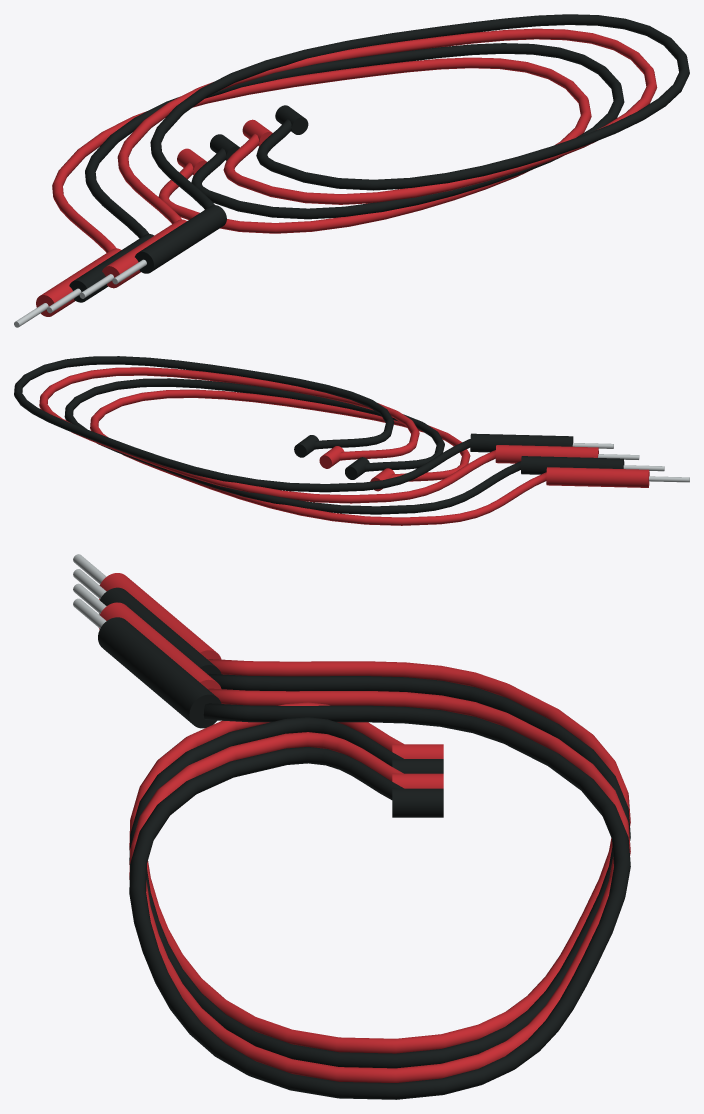
Rendered from lod0_source.glb.
3 renders of one model, top to bottom at view 1: azimuth 30°, elevation 25°; view 2: azimuth 150°, elevation 25°; view 3: azimuth 270°, elevation 25°, orthographic. The views are drawn at different scales.
Parts seen in each view (by area): view 1: Loose unconnected test lead.003, Loose unconnected test lead.002, Loose unconnected test lead.001, Loose unconnected test lead, Insulated resting probe.003, Insulated resting probe, Insulated resting probe.001, Insulated resting probe.002, Disconnected plug.003; view 2: Loose unconnected test lead.003, Loose unconnected test lead.002, Loose unconnected test lead.001, Loose unconnected test lead, Insulated resting probe, Insulated resting probe.002, Insulated resting probe.001, Insulated resting probe.003, Disconnected plug.002, Disconnected plug.001, Disconnected plug.003; view 3: Loose unconnected test lead.003, Loose unconnected test lead.001, Loose unconnected test lead.002, Loose unconnected test lead, Insulated resting probe.003, Insulated resting probe.002, Insulated resting probe, Insulated resting probe.001, Disconnected plug.003.
Boxes of the visible parts, x1,y1,x2,y2 form: Loose unconnected test lead.003: (150,14,689,209); Loose unconnected test lead.002: (117,28,657,223); Loose unconnected test lead.001: (85,43,624,238); Loose unconnected test lead: (52,57,591,252); Insulated resting probe.003: (135,205,226,273); Insulated resting probe: (36,248,121,316); Insulated resting probe.001: (69,234,153,302); Insulated resting probe.002: (102,219,186,288); Disconnected plug.003: (275,105,308,134); Loose unconnected test lead.003: (14,356,470,492); Loose unconnected test lead.002: (39,367,495,503); Loose unconnected test lead.001: (64,378,521,514); Loose unconnected test lead: (90,389,546,525); Insulated resting probe: (546,467,649,487); Insulated resting probe.002: (495,445,598,463); Insulated resting probe.001: (521,456,624,474); Insulated resting probe.003: (470,433,573,452); Disconnected plug.002: (319,446,344,468); Disconnected plug.001: (345,457,369,479); Disconnected plug.003: (294,435,318,457); Loose unconnected test lead.003: (129,703,630,1099); Loose unconnected test lead.001: (129,673,630,1068); Loose unconnected test lead.002: (129,688,630,1082); Loose unconnected test lead: (129,659,630,1053); Insulated resting probe.003: (98,617,221,728); Insulated resting probe.002: (99,602,221,689); Insulated resting probe: (99,573,221,659); Insulated resting probe.001: (99,587,221,674); Disconnected plug.003: (392,788,443,817).
Bounding box in the file's own units: 0.3709 × 0.023 × 0.1524.
